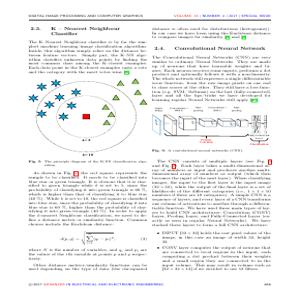diagram: (25, 78, 152, 159), (153, 105, 272, 148)
text: (152, 157, 273, 272), (24, 168, 150, 271), (151, 25, 271, 105), (25, 25, 149, 76)
